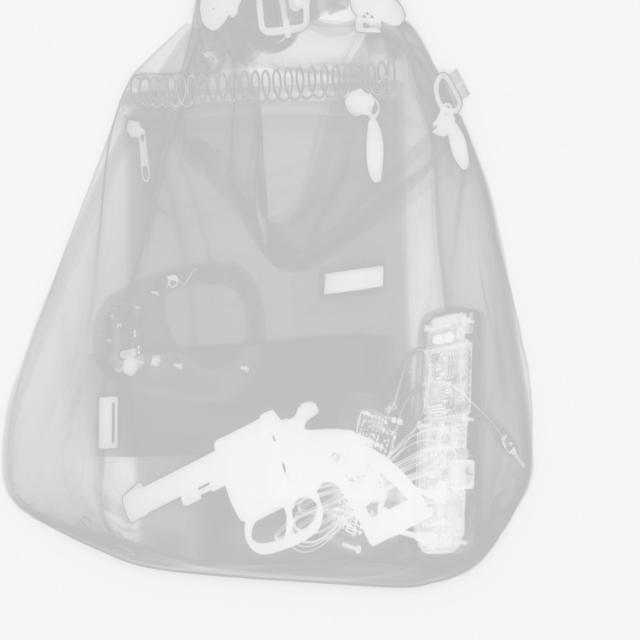pistol: (123, 398, 431, 559)
